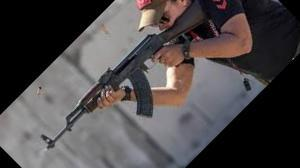larga: (40, 0, 212, 152)
